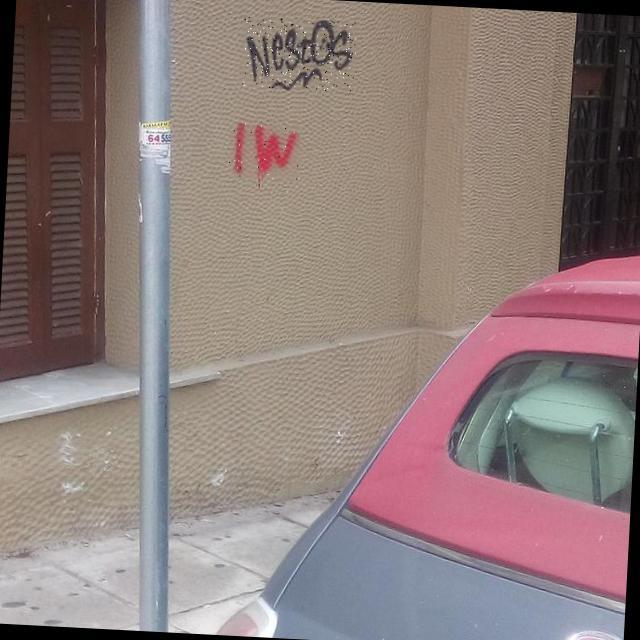-: (240, 17, 358, 92), (228, 123, 303, 182)
